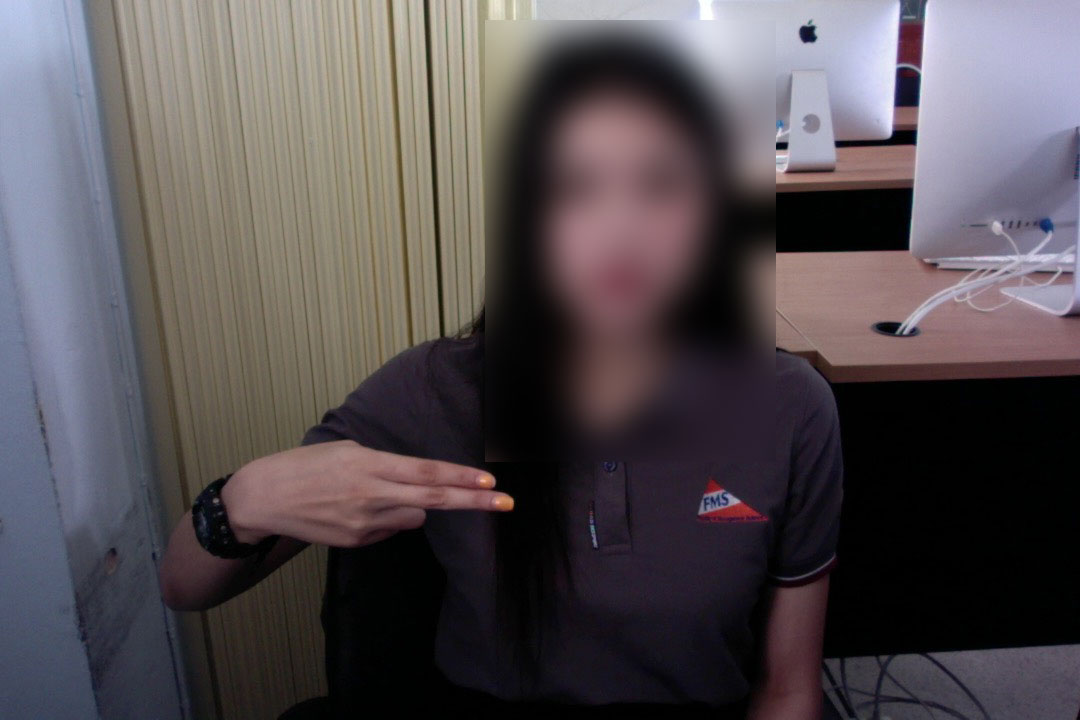hor: (211, 432, 523, 562)
